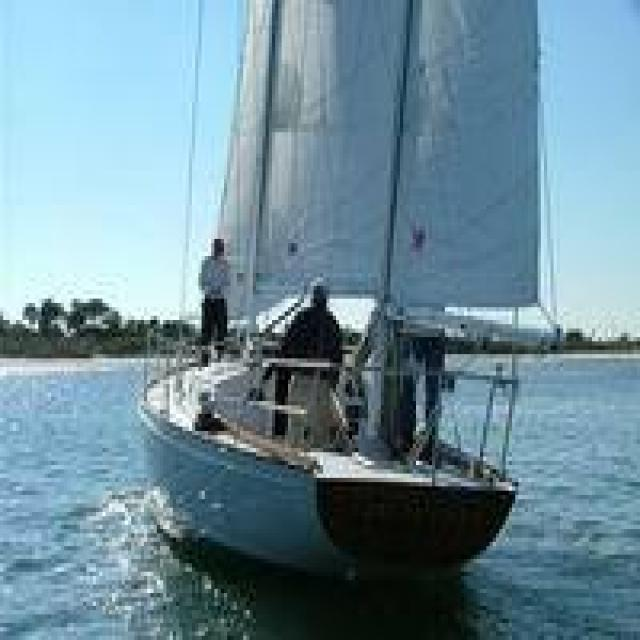Ship: (144, 6, 555, 578)
